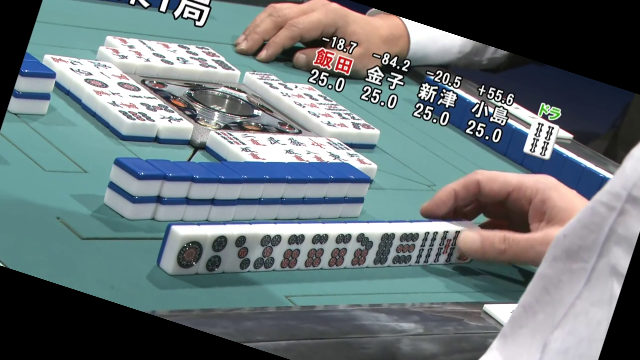Tehai: (163, 214, 478, 278)
